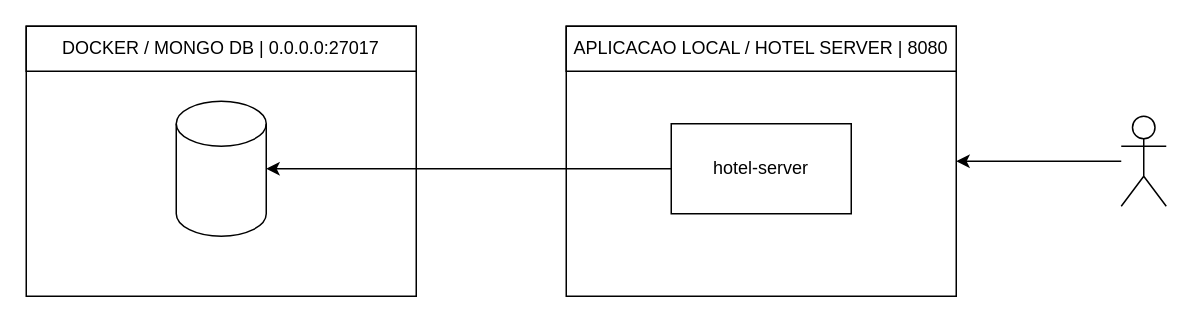
This 1197x323 diagram has some shape labels left out. Each missing label, with the centre of its shape:
"Cliente" goes at point 1143,160.
"clientes" goes at point 220,168.
